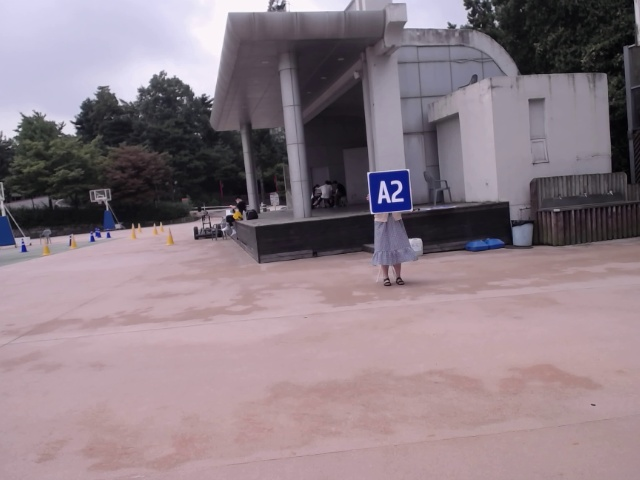delivery_a2: (368, 168, 413, 214)
